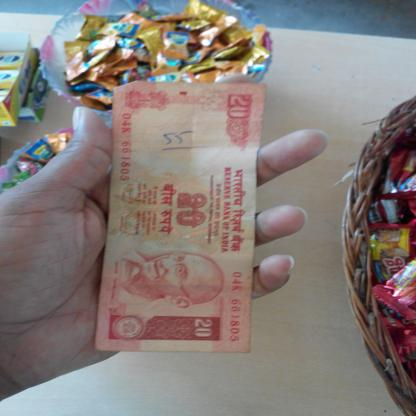Old20Front: (95, 81, 267, 354)
